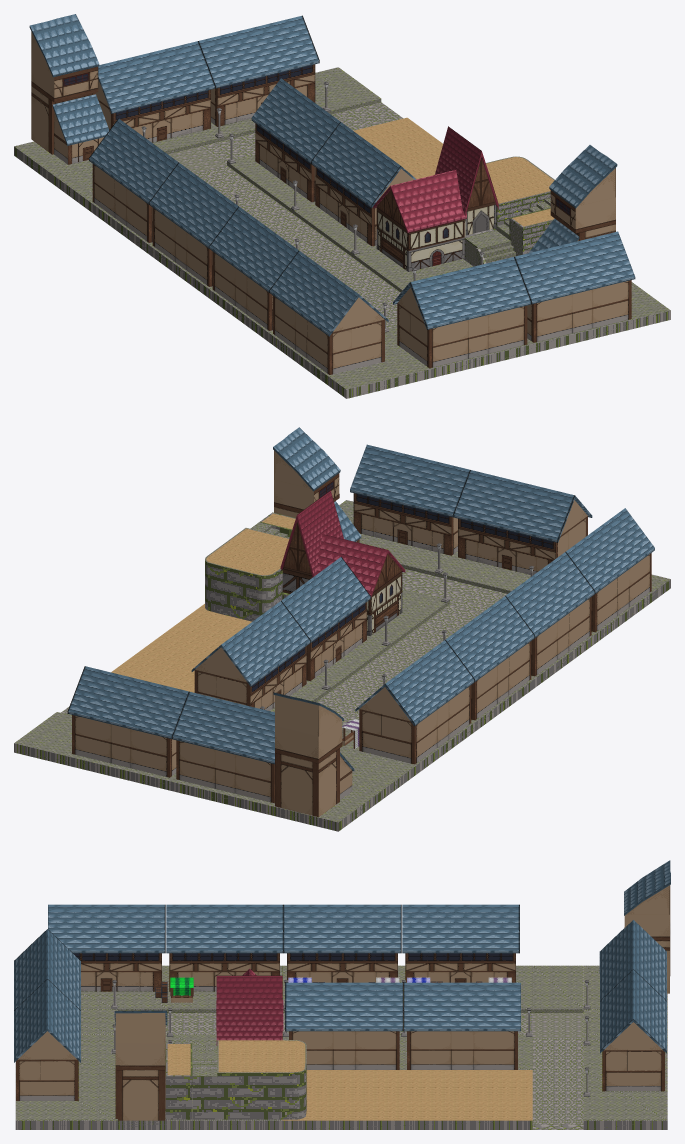
The model's file is Try on make scene.fbx.
3 renders of one model, top to bottom at view 1: azimuth 30°, elevation 25°; view 2: azimuth 150°, elevation 25°; view 3: azimuth 270°, elevation 25°, orthographic.
Parts seen in each view (by area): view 1: Plane.002, New object.046, New object.036, New object.045, New object.037, New object.044, New object.043, New object.042, New object.040, New object.032, New object.039, New object.038 (+3 smaller); view 2: Plane.002, New object.046, New object.042, New object.045, New object.039, New object.043, New object.041, New object.044, New object.036, New object.034, New object.037, New object.038 (+3 smaller); view 3: Plane.002, New object.034, New object.041, New object.040, New object.038, New object.039, New object.032, New object.037, New object.042, New object.045, New object.035, New object.036 (+4 smaller).
Part boxes in pixels (<box>): Plane.002: <box>14,67,670,398</box>; New object.046: <box>393,257,530,368</box>; New object.036: <box>373,126,498,271</box>; New object.045: <box>514,231,635,342</box>; New object.037: <box>269,250,388,374</box>; New object.044: <box>29,14,109,164</box>; New object.043: <box>96,41,215,142</box>; New object.042: <box>198,15,319,126</box>; New object.040: <box>311,122,416,246</box>; New object.032: <box>209,206,298,330</box>; New object.039: <box>89,118,178,242</box>; New object.038: <box>149,162,238,286</box>; Plane.002: <box>14,500,670,831</box>; New object.046: <box>454,470,592,575</box>; New object.042: <box>67,666,188,777</box>; New object.045: <box>350,444,470,555</box>; New object.039: <box>355,640,474,764</box>; New object.043: <box>172,691,274,802</box>; New object.041: <box>191,601,310,710</box>; New object.044: <box>273,692,354,817</box>; New object.036: <box>280,490,405,635</box>; New object.034: <box>205,512,295,621</box>; New object.037: <box>565,508,654,632</box>; New object.038: <box>445,596,534,720</box>; Plane.002: <box>15,965,667,1129</box>; New object.034: <box>165,1040,306,1120</box>; New object.041: <box>403,982,520,1069</box>; New object.040: <box>285,982,402,1069</box>; New object.038: <box>284,904,401,982</box>; New object.039: <box>402,904,519,982</box>; New object.032: <box>166,904,283,991</box>; New object.037: <box>48,904,165,991</box>; New object.042: <box>600,970,666,1091</box>; New object.045: <box>14,979,80,1100</box>; New object.035: <box>114,1010,167,1120</box>; New object.036: <box>216,968,283,1045</box>.
Size of the model in its own units: 1698 by 624 by 3031.
Materials: 120 (108 with a texture image).
